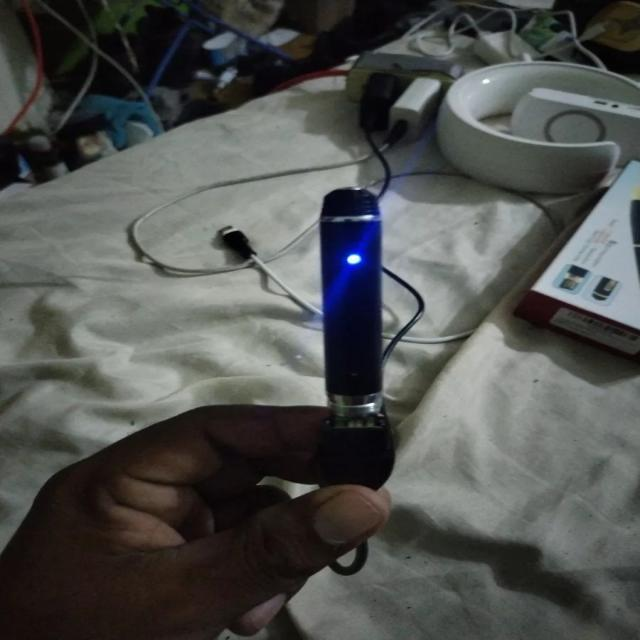hidden camera: (346, 254, 364, 265)
